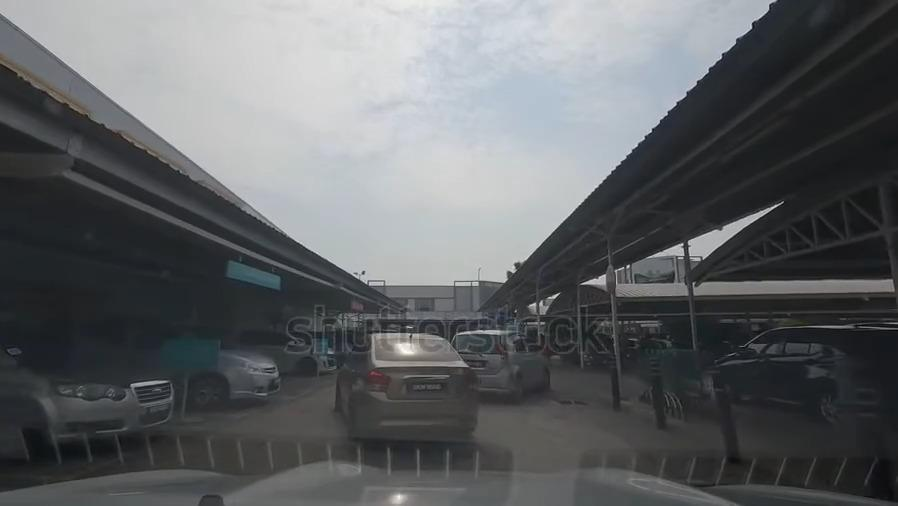car: (0, 337, 175, 434), (332, 336, 467, 438), (99, 327, 280, 402), (710, 333, 898, 401), (459, 328, 551, 402), (223, 334, 335, 377)
manhole: (553, 395, 585, 411)
wheel: (194, 374, 227, 407), (510, 372, 523, 400), (299, 358, 315, 378), (543, 371, 551, 391)
